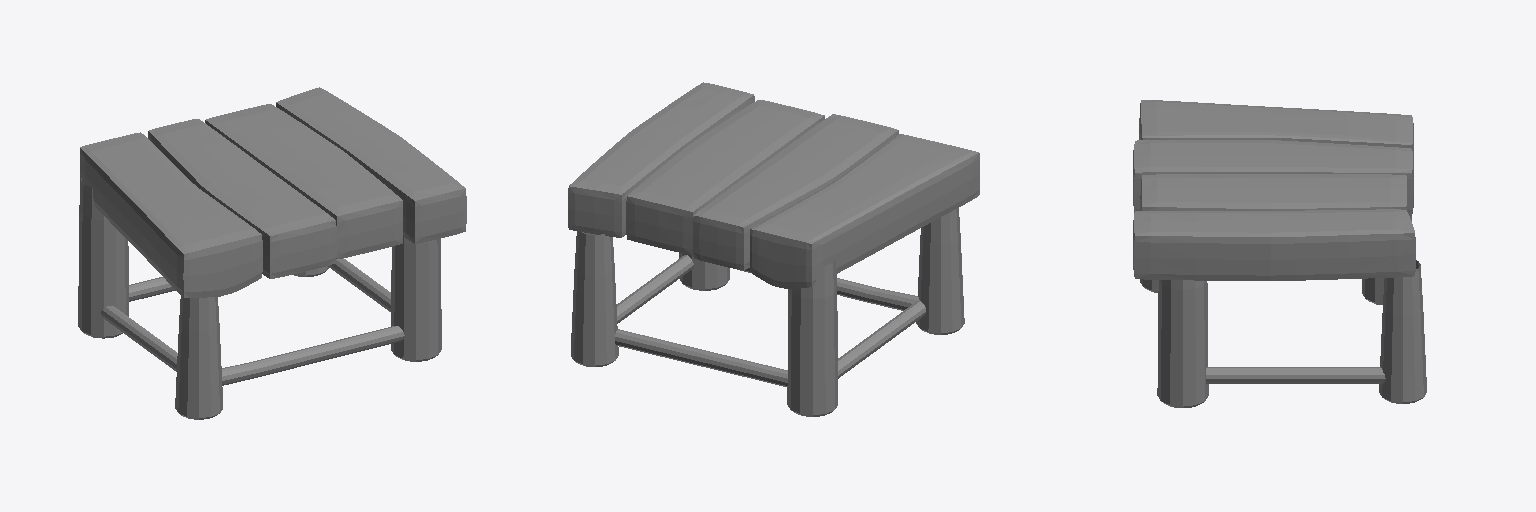
The model's file is big_table.obj.
3 renders of one model, left to right at view 1: azimuth 30°, elevation 25°; view 2: azimuth 150°, elevation 25°; view 3: azimuth 270°, elevation 25°, orthographic.
Parts seen in each view (by area): view 1: Box4892; view 2: Box4892; view 3: Box4892.
Part boxes in pixels (bbox=[...]): Box4892: bbox=[78, 87, 466, 419]; Box4892: bbox=[568, 82, 979, 416]; Box4892: bbox=[1133, 100, 1426, 407].
Size of the model in its own units: 18.86 by 11.25 by 16.89.